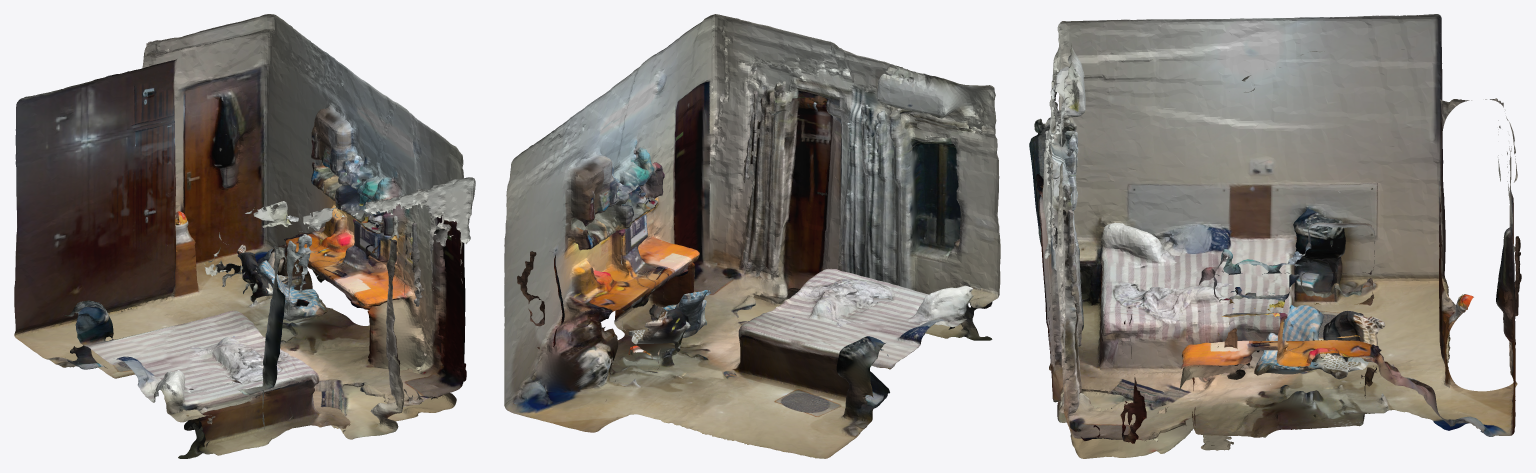
3 views of the same model, side by side, from view 1: azimuth 30°, elevation 25°; view 2: azimuth 150°, elevation 25°; view 3: azimuth 270°, elevation 25° (orthographic). The views are drawn at different scales.
Bounding box in the file's own units: 3.62 × 3.1 × 4.6.
2 materials, 2 textured.
